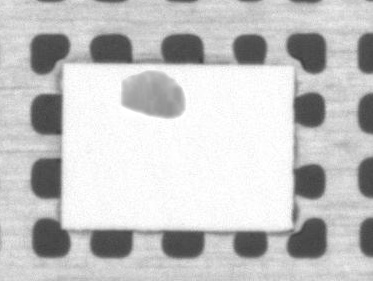DIE_INK: (149, 49, 258, 93)
